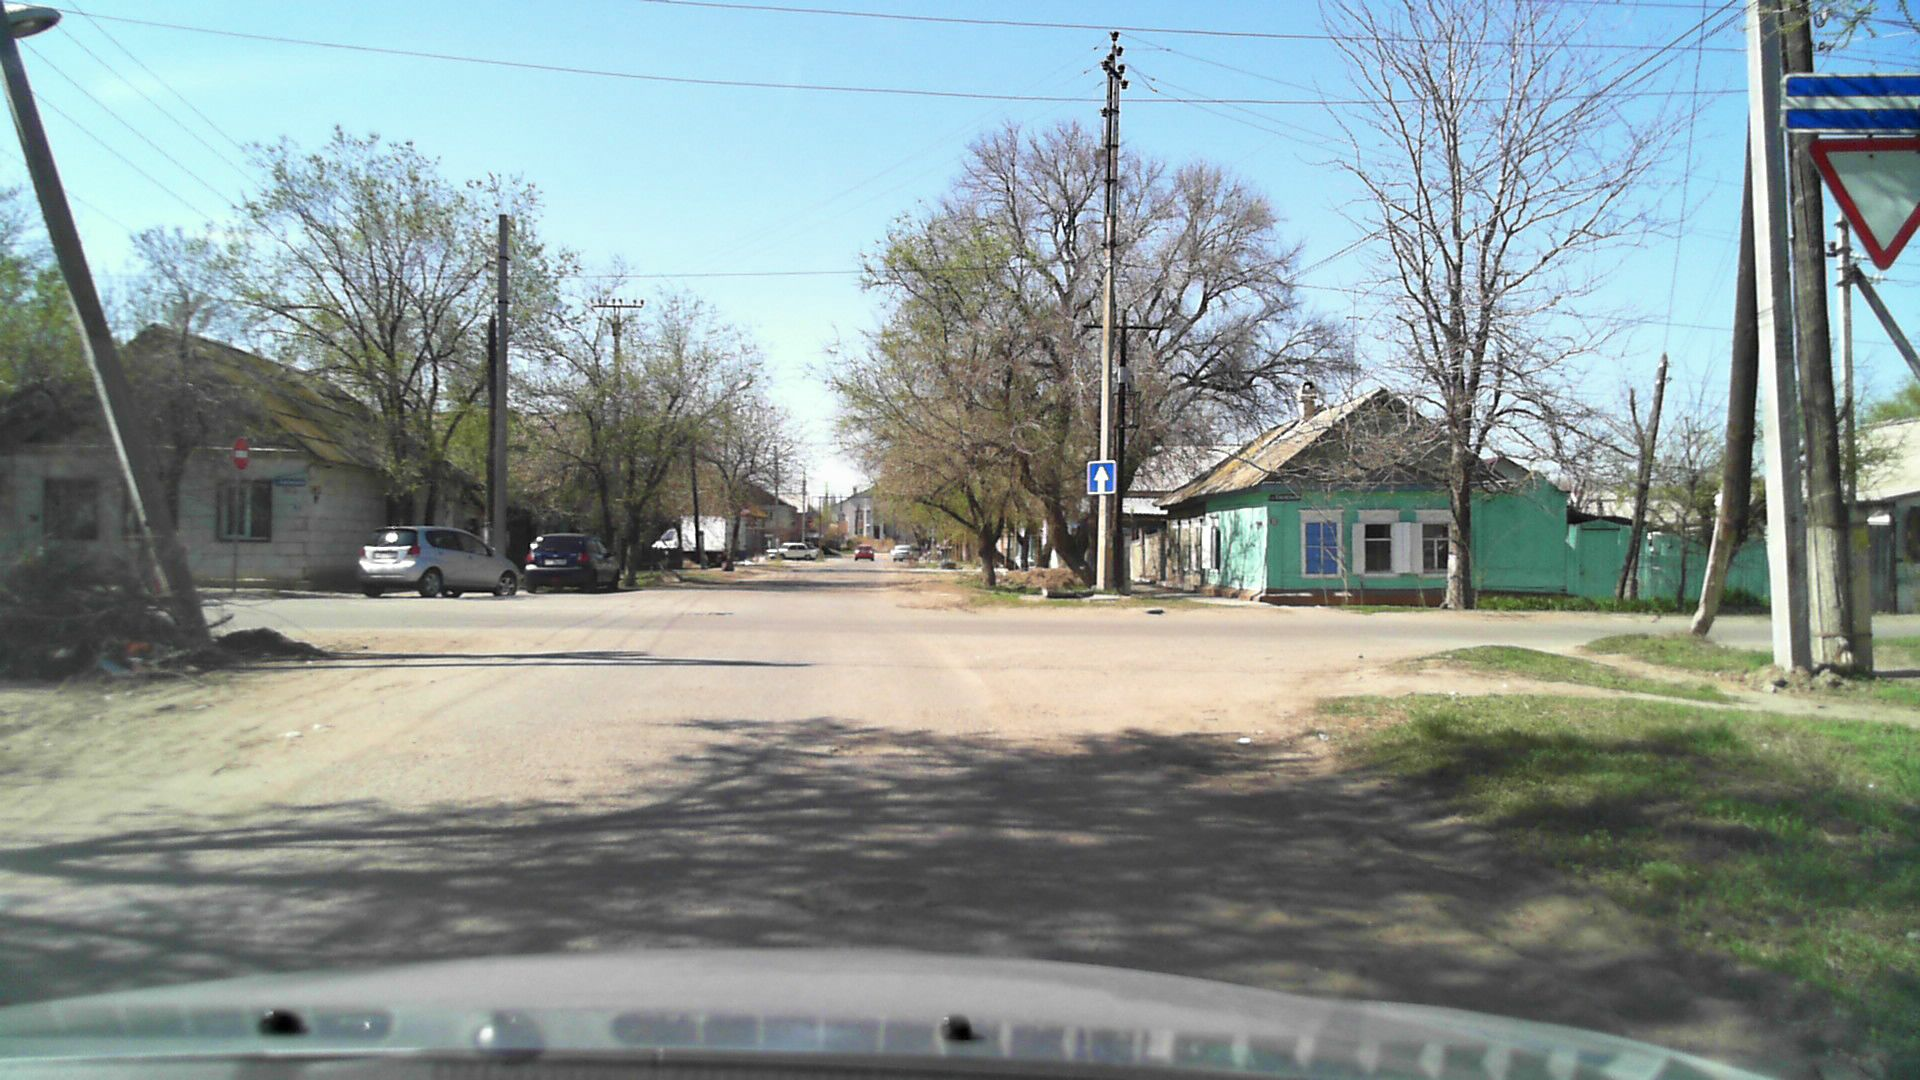No Entry: (233, 438, 251, 469)
